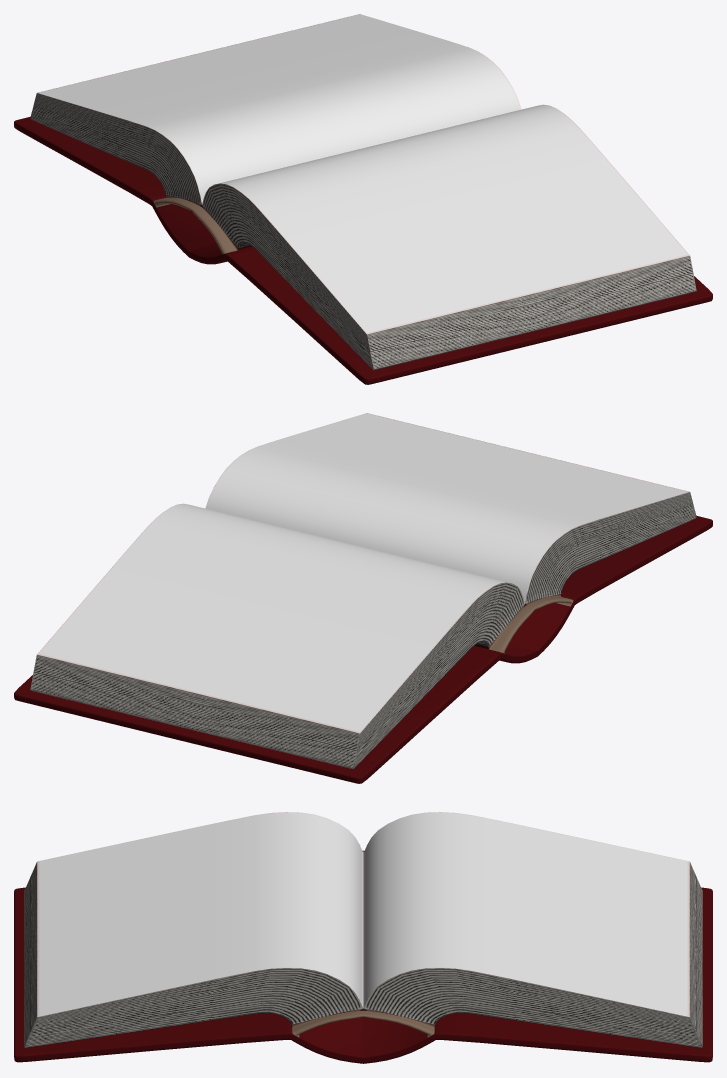
Rendered from book.fbx.
The picture shows the model from 3 angles, top to bottom: view 1: azimuth 30°, elevation 25°; view 2: azimuth 150°, elevation 25°; view 3: azimuth 270°, elevation 25°; orthographic projection.
Visible parts, largest first — view 1: Cube; view 2: Cube; view 3: Cube.
Boxes of the visible parts, x1,y1,x2,y2 form: Cube: [14, 14, 712, 384]; Cube: [14, 413, 712, 783]; Cube: [14, 812, 712, 1063].
Bounding box in the file's own units: 39.56 × 9.89 × 69.32.
